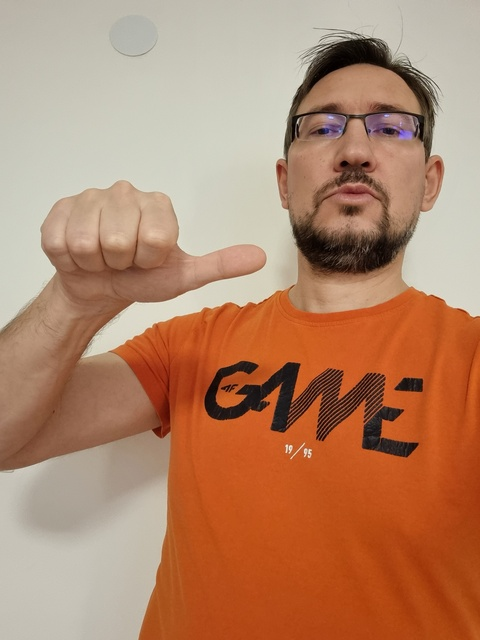GestBack: (41, 182, 266, 302)
